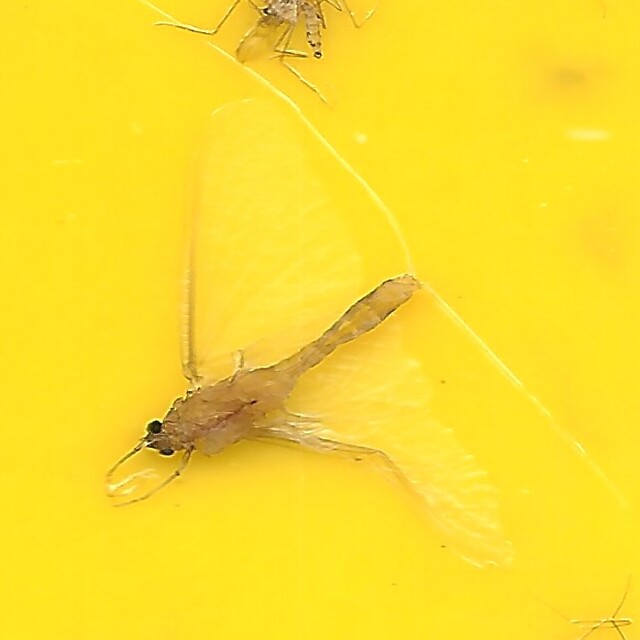Ephemeroptera: (110, 87, 530, 553)
